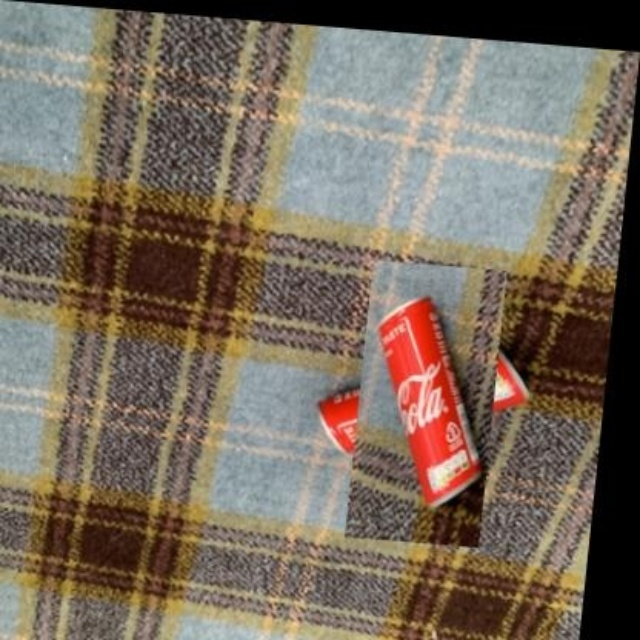trash: (378, 297, 478, 505)
